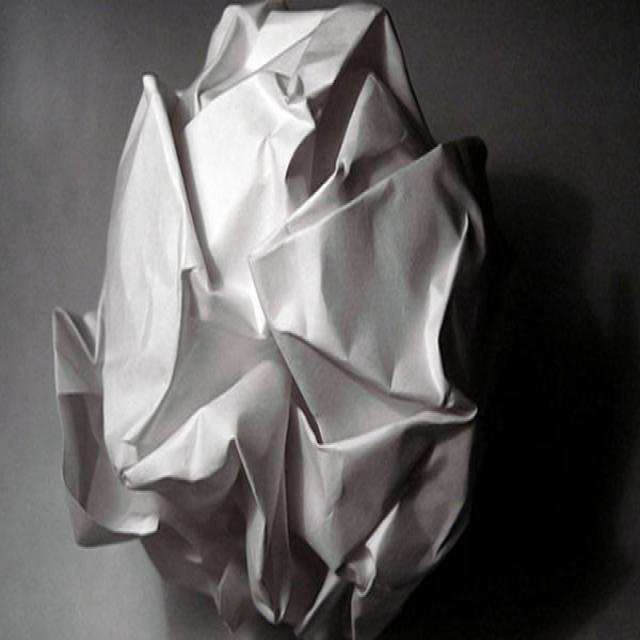PaperCardboard: (52, 0, 495, 640)
